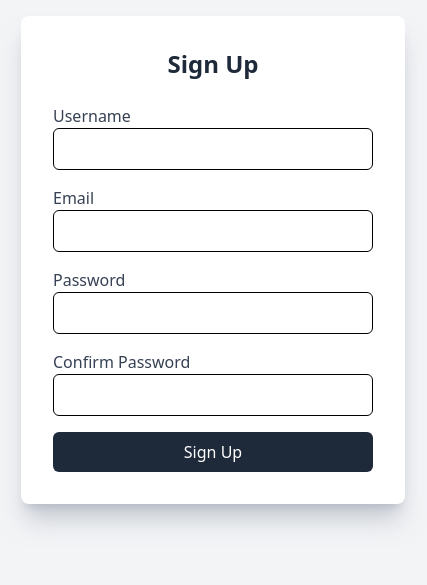
it: Register component › should show submit error when registration fails
In the field labelled "Username": (213, 149) [53, 128, 373, 170], type "testuser"
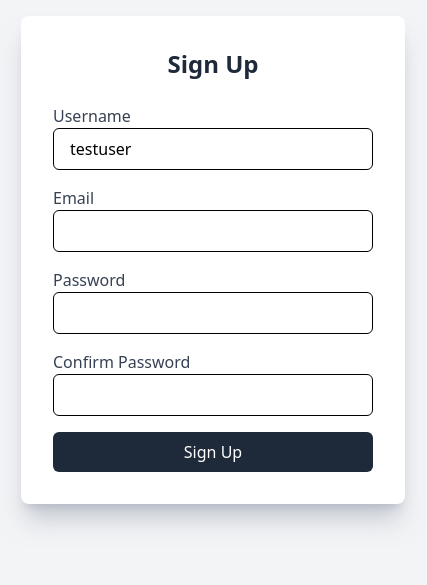
In the field labelled "Email": (213, 231) [53, 210, 373, 252], type "test@gmail.com"
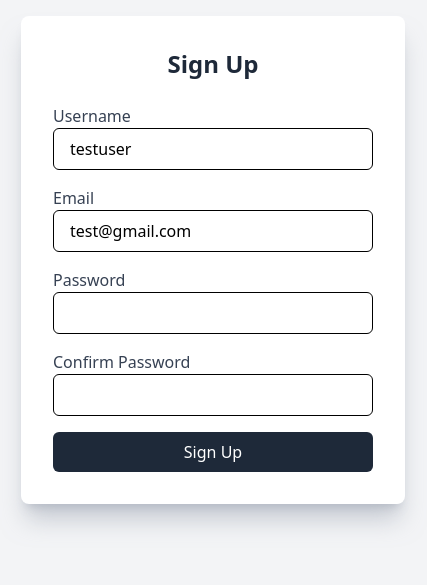
In the password field labelled "Password": (213, 313) [53, 292, 373, 334], type "12345"
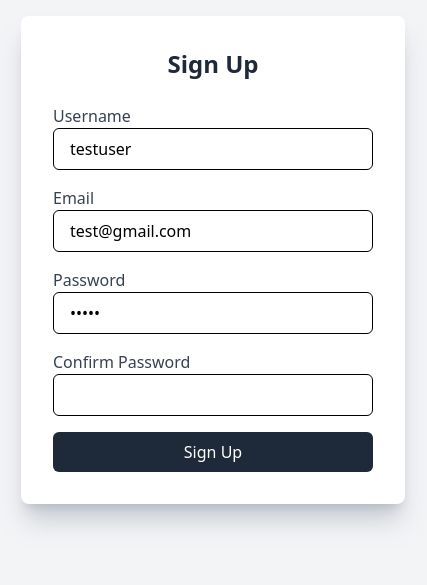
In the password field labelled "Confirm Password": (213, 395) [53, 374, 373, 416], type "12345"
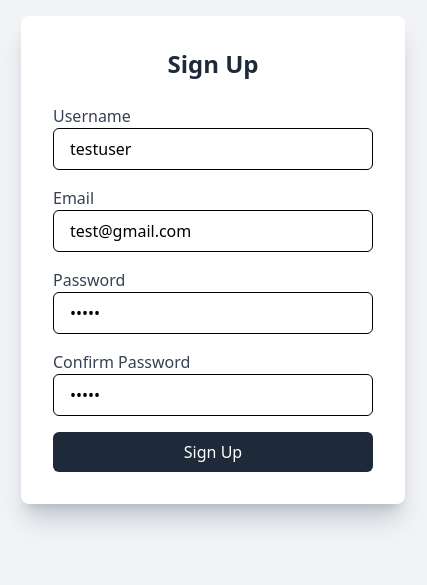
Click the button "Sign Up": (213, 452) [53, 432, 373, 472]
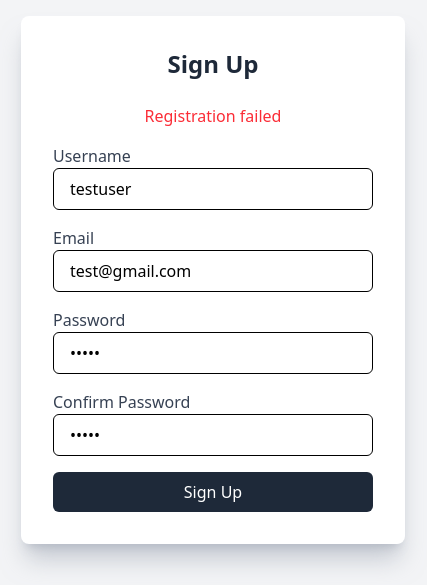
Now the text "Registration failed" is shown, box [144, 105, 281, 127]
